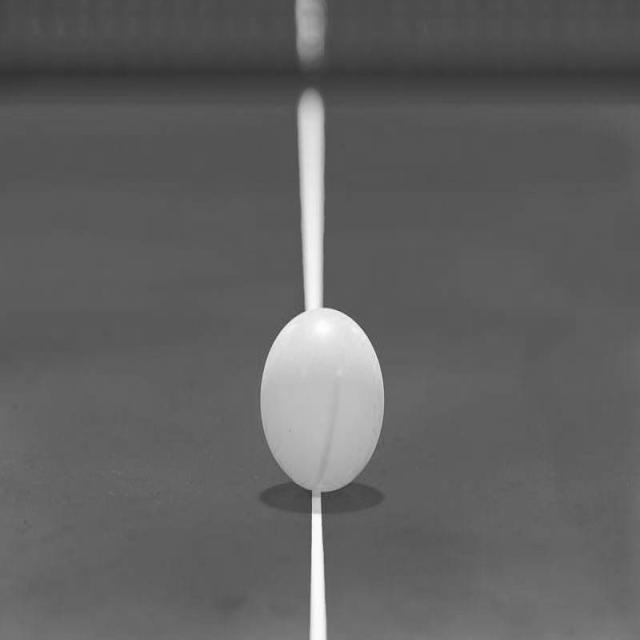ping-pong-ball: (258, 304, 387, 494)
